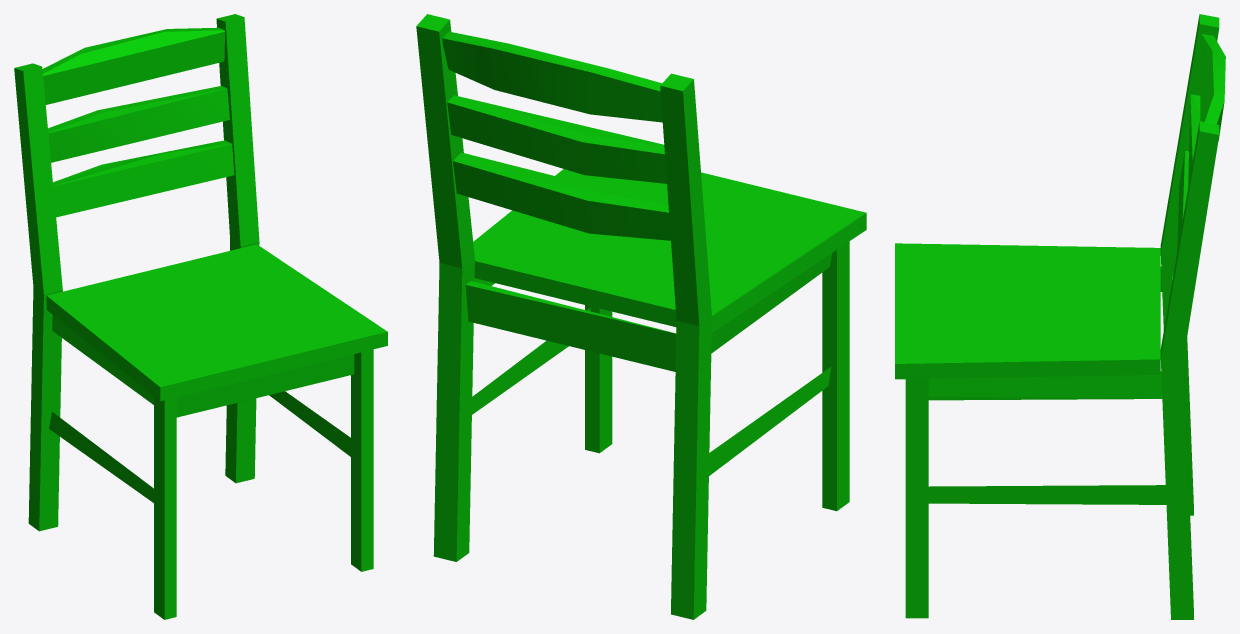
The model's file is UCX_Chair2.fbx.
The picture shows the model from 3 angles, left to right: view 1: azimuth 30°, elevation 25°; view 2: azimuth 150°, elevation 25°; view 3: azimuth 270°, elevation 25°; orthographic projection. The views are drawn at different scales.
Visible parts, largest first — view 1: UCX_Chair2; view 2: UCX_Chair2; view 3: UCX_Chair2.
Part boxes in pixels (bbox=[...]): UCX_Chair2: bbox=[14, 14, 387, 619]; UCX_Chair2: bbox=[416, 14, 866, 619]; UCX_Chair2: bbox=[895, 14, 1225, 619].
Bounding box in the file's own units: 0.4275 × 0.81 × 0.4954.
